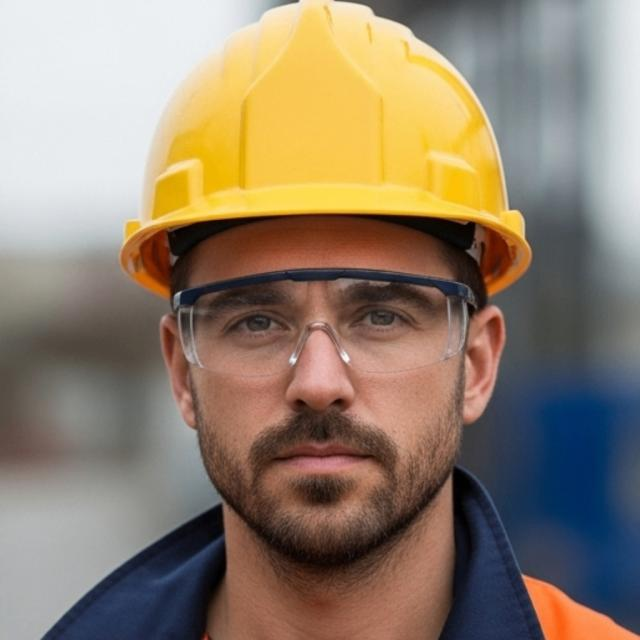oculos-epi: (174, 269, 474, 377)
